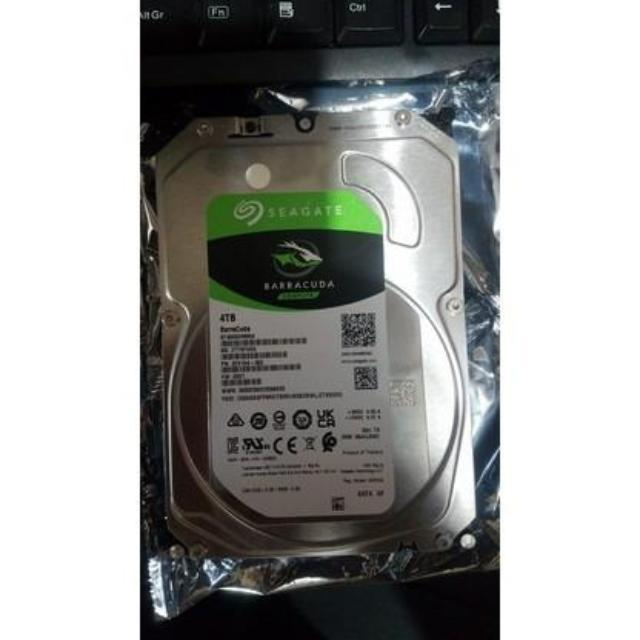DISK: (152, 117, 472, 560)
